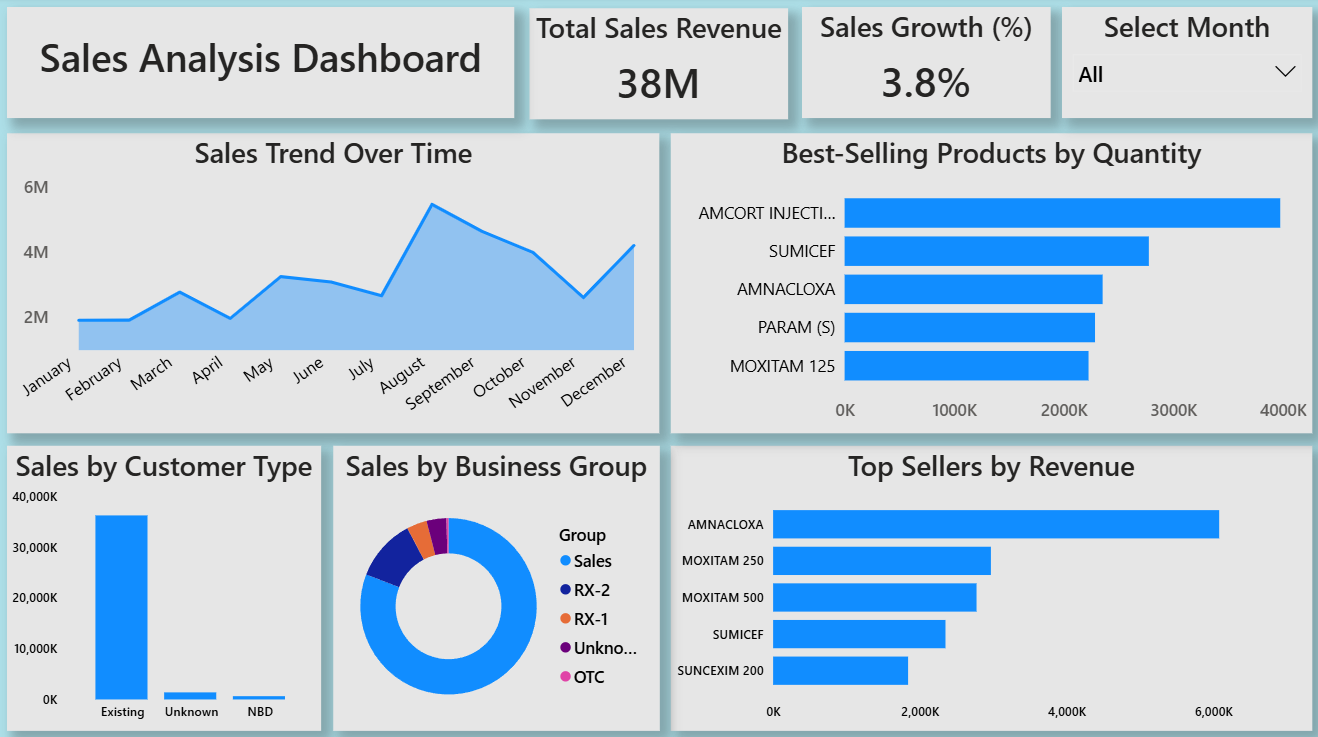

What the dashboard file says about the page in this screenshot:
{"tool":"powerbi","page":{"name":"Page 1","canvas":[1280,720],"ordinal":0},"visuals":[{"type":"card","title":"Total Sales Revenue","fields":{"Values":["Table1 (2).Total Sales"]},"box":[513.9,10.9,249.7,107.4],"z":0},{"type":"card","title":"Sales Growth (%)","fields":{"Values":["Table1 (2).Sales Growth %"]},"box":[776.9,9.7,240.1,107.4],"z":1000},{"type":"lineChart","title":"Sales Trend Over Time","fields":{"Y":["Table1 (2).Total Sales"],"Category":["Calendar.Date.Variation.Date Hierarchy.Month"]},"box":[9.7,131.5,629.8,289.5],"z":2000},{"type":"clusteredBarChart","title":"Top Sellers by Revenue","fields":{"Category":["Table1 (2).Brand Name"],"Y":["Table1 (2).Total Sales"]},"box":[650.3,433.1,618.9,275.1],"z":3000},{"type":"clusteredBarChart","title":"Best-Selling Products by Quantity","fields":{"Category":["Table1 (2).Brand Name"],"Y":["Sum(Table1 (2).Qty)"]},"box":[650.3,131.5,618.9,289.5],"z":4000},{"type":"slicer","title":"Select Month","fields":{"Values":["Calendar.Date.Variation.Date Hierarchy.Year","Calendar.Date.Variation.Date Hierarchy.Month"]},"box":[1027.9,9.7,241.3,107.4],"z":5000},{"type":"clusteredColumnChart","title":"Sales by Customer Type","fields":{"Category":["Table1 (2).EXI/NBD"],"Y":["Table1 (2).Total Sales"]},"box":[9.7,433.1,302.8,275.1],"z":6000},{"type":"donutChart","title":"Sales by Business Group","fields":{"Category":["Table1 (2).Group"],"Y":["Table1 (2).Total Sales"]},"box":[324.5,433.1,314.9,275.1],"z":7000},{"type":"textbox","box":[9.7,9.7,489.8,107.4],"z":8000}]}

Visuals, with their boxes in screenshot pixels (x1, y1, x2, y2), scaled from the page's 1280x720 canvas onto the 1318x737 screenshot:
"Total Sales Revenue" card: 529 11 786 121
"Sales Growth (%)" card: 800 10 1047 120
"Sales Trend Over Time" lineChart: 10 135 658 431
"Top Sellers by Revenue" clusteredBarChart: 670 443 1307 725
"Best-Selling Products by Quantity" clusteredBarChart: 670 135 1307 431
"Select Month" slicer: 1058 10 1307 120
"Sales by Customer Type" clusteredColumnChart: 10 443 322 725
"Sales by Business Group" donutChart: 334 443 658 725
textbox: 10 10 514 120
